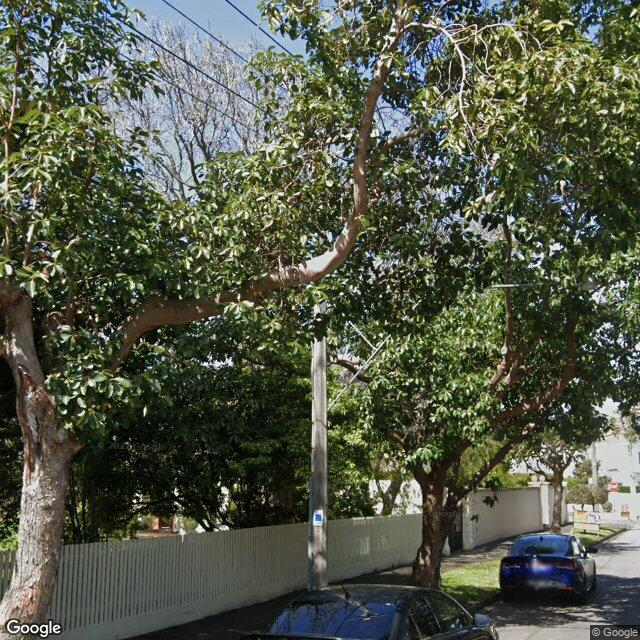timber-pole: (308, 292, 328, 592)
